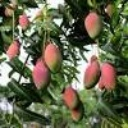mango: (42, 42, 64, 74)
